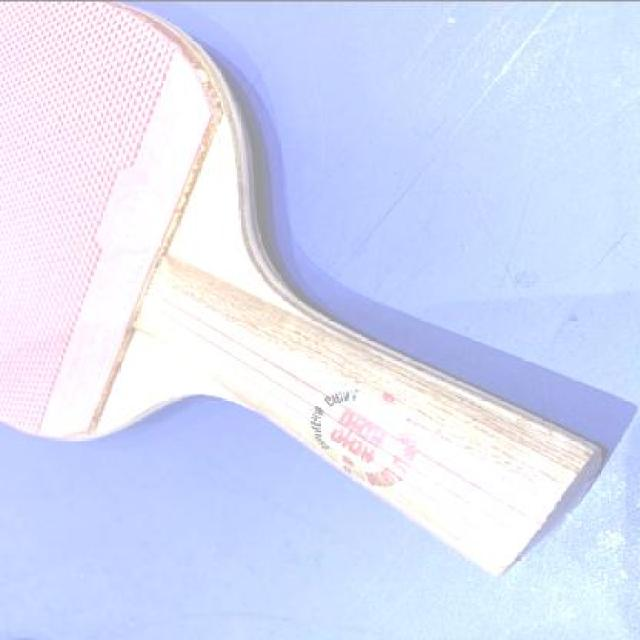table_tennis_racket: (0, 1, 278, 450)
